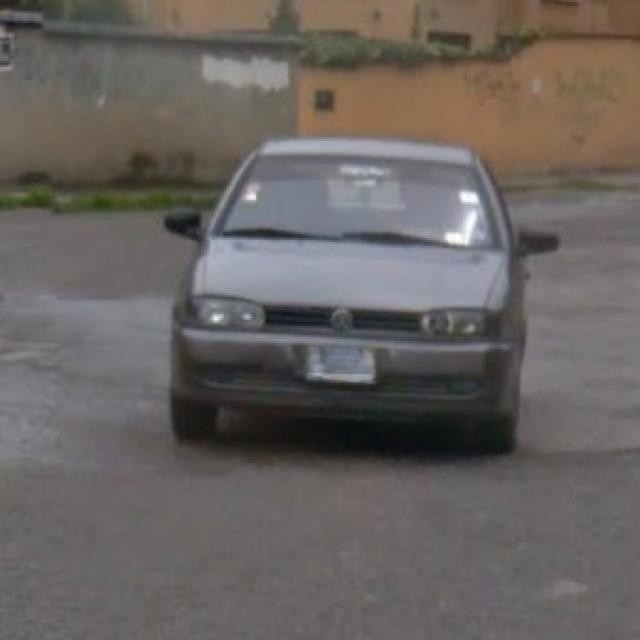car: (165, 143, 560, 440)
